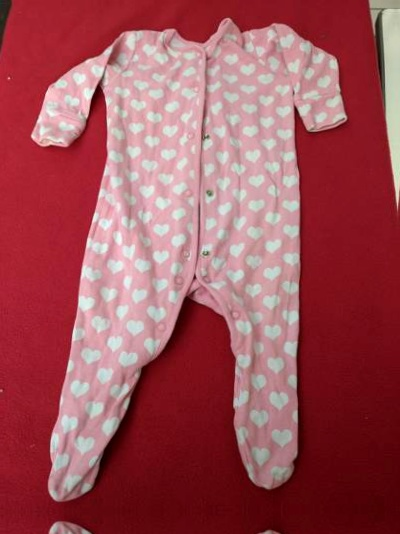Body: (18, 5, 370, 492), (23, 530, 375, 534)
